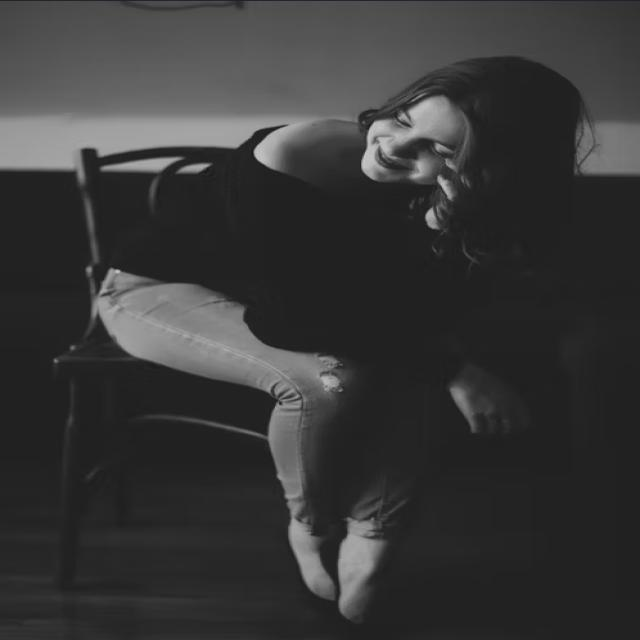Edited images: (92, 55, 594, 640)
